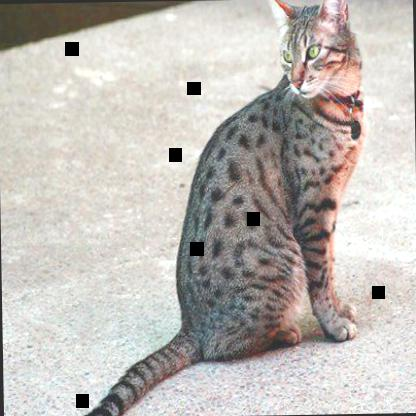cat: (61, 0, 371, 415)
